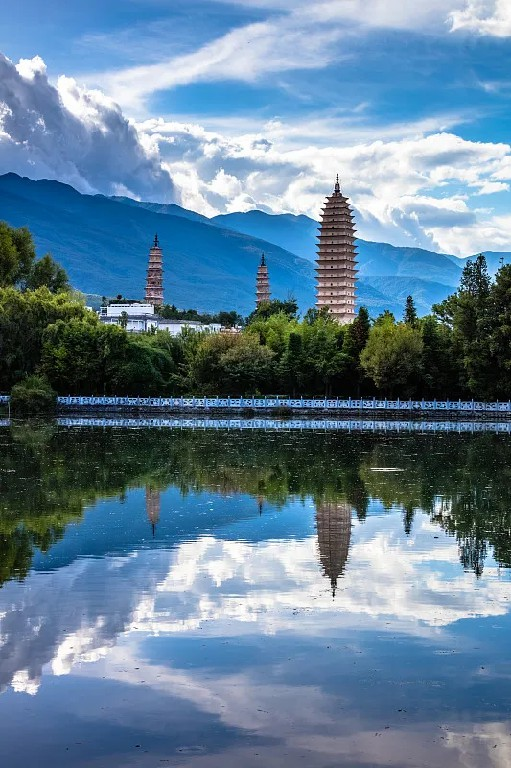ThreePagoda: (313, 175, 358, 326)
